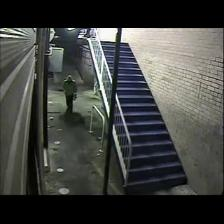person: (63, 75, 76, 111)
